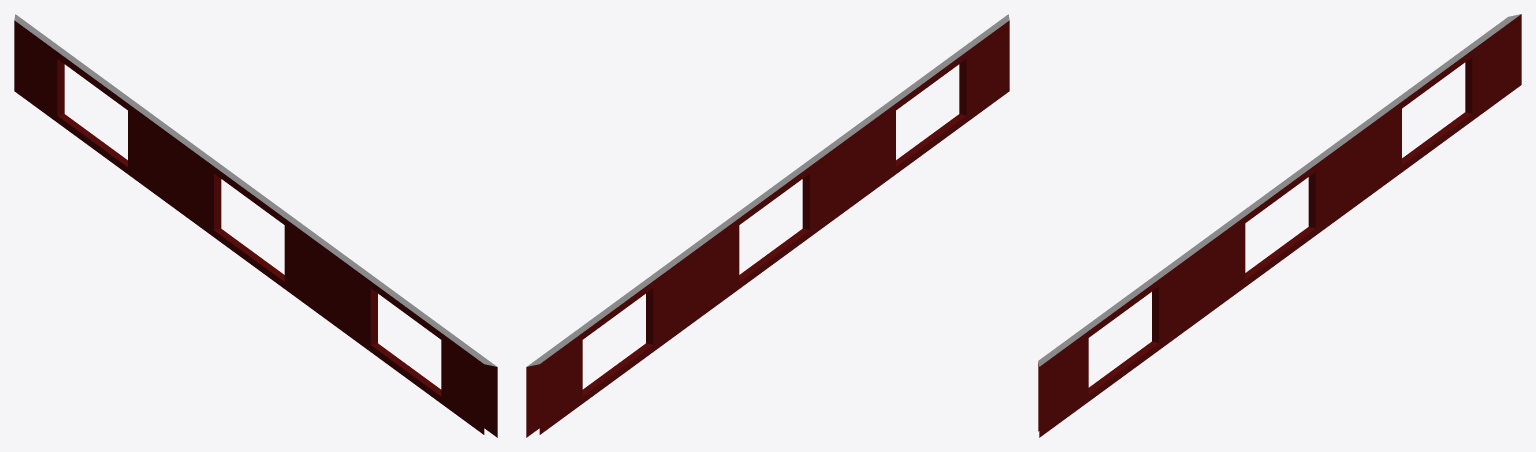
File: WallLong.FBX
3 views of the same model, side by side, from view 1: azimuth 30°, elevation 25°; view 2: azimuth 150°, elevation 25°; view 3: azimuth 330°, elevation 25° (orthographic).
Visible parts, largest first — view 1: Wall01; view 2: Wall01; view 3: Wall01.
Part boxes in pixels (left/top/right/bottom): Wall01: left=14, top=14, right=497, bottom=437; Wall01: left=526, top=14, right=1009, bottom=437; Wall01: left=1038, top=14, right=1521, bottom=437.
Bounding box in the file's own units: 528 × 5000 × 61585.
